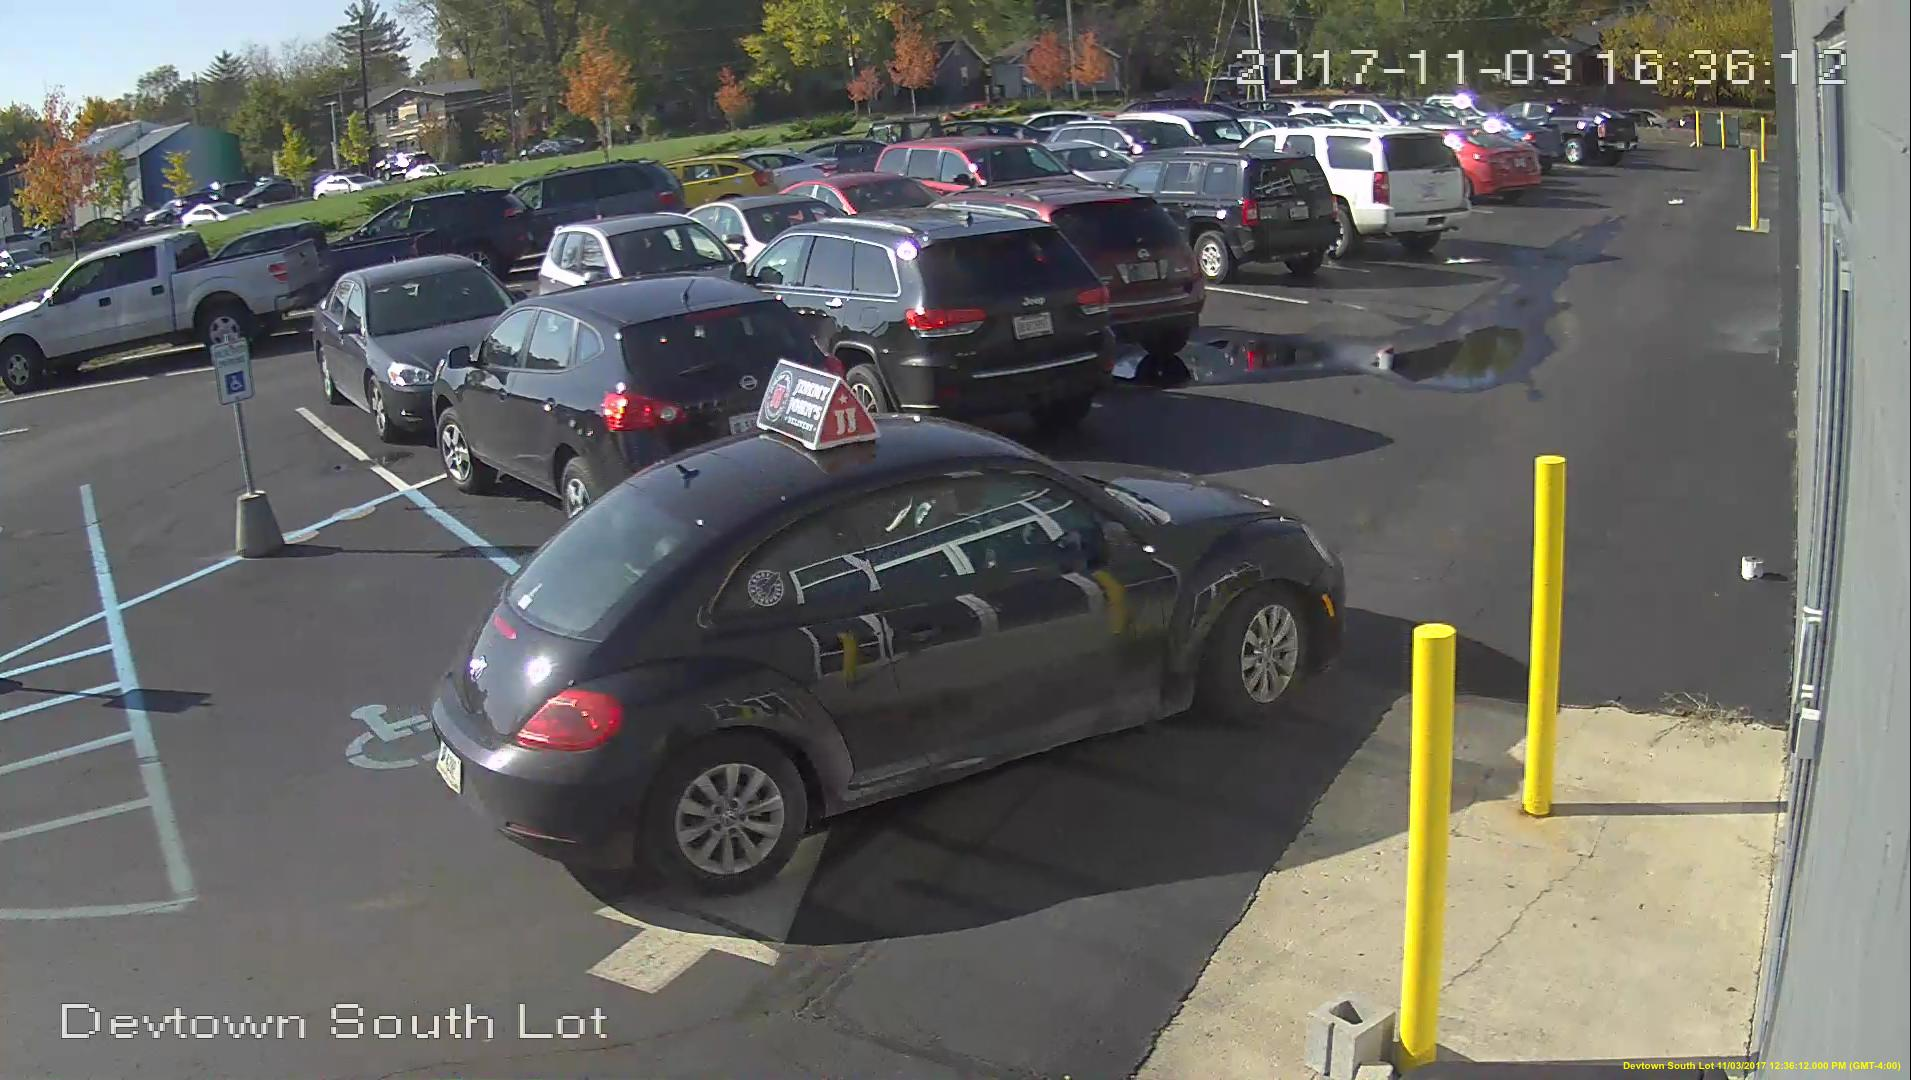jimmy_johns: (753, 356, 879, 455)
